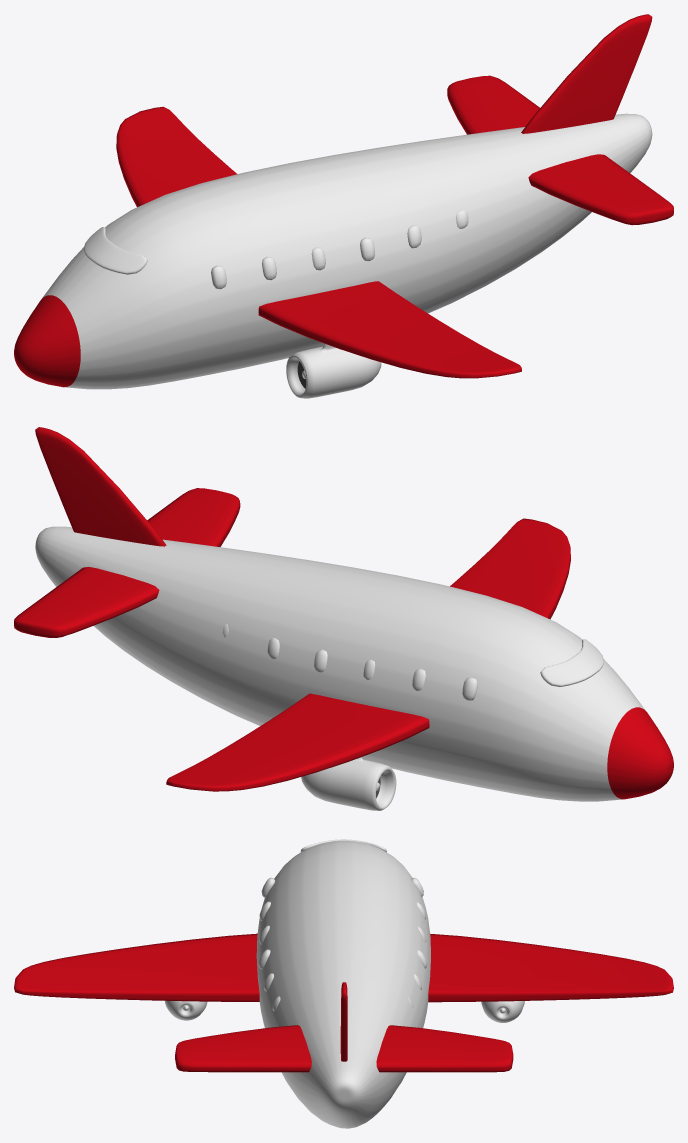
3 views of the same model, one above another, from view 1: azimuth 30°, elevation 25°; view 2: azimuth 150°, elevation 25°; view 3: azimuth 270°, elevation 25° (orthographic). The views are drawn at different scales.
Visible parts, largest first — view 1: Uçak; view 2: Uçak; view 3: Uçak.
Boxes of the visible parts, x1=… form: Uçak: x1=14, y1=14, x2=673, y2=398; Uçak: x1=14, y1=427, x2=673, y2=810; Uçak: x1=14, y1=839, x2=673, y2=1128.
Bounding box in the file's own units: 332 × 122 × 326.
